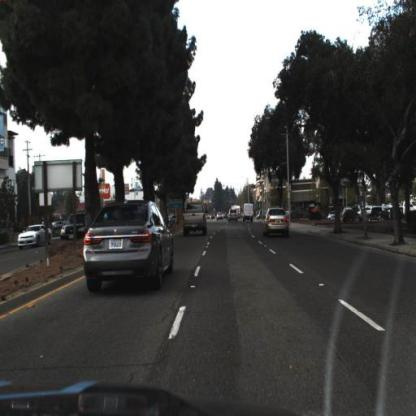car: (77, 196, 179, 298), (178, 194, 212, 240), (261, 203, 295, 244), (60, 210, 92, 244), (18, 224, 54, 248), (241, 200, 258, 227), (226, 206, 243, 228)
